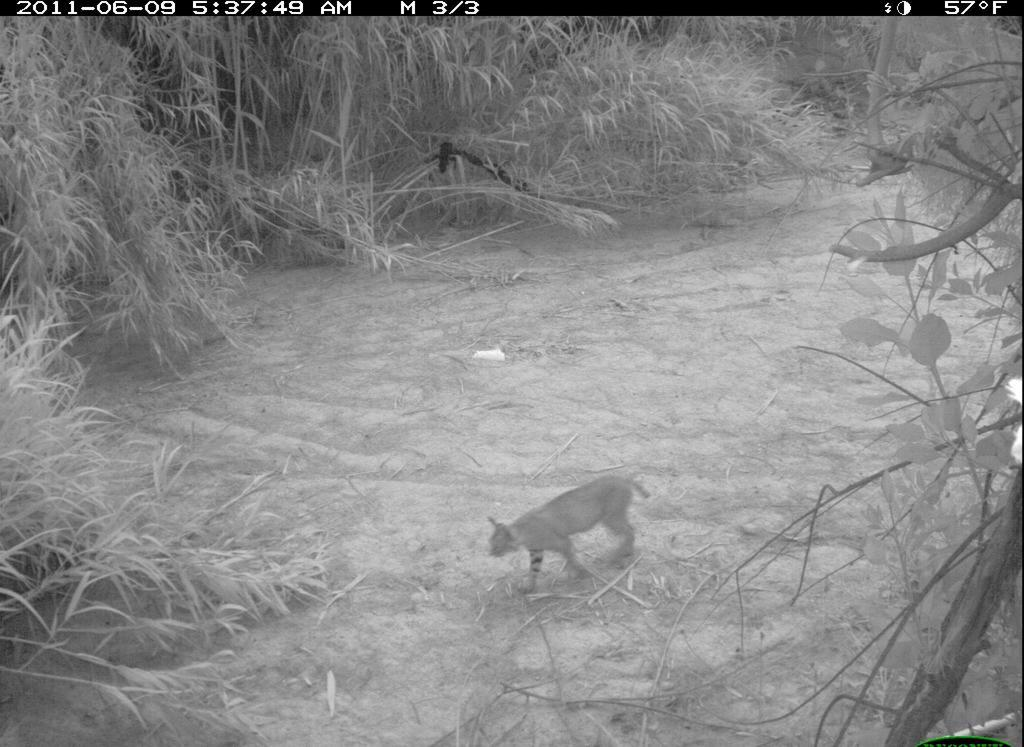bobcat: (475, 460, 661, 607)
